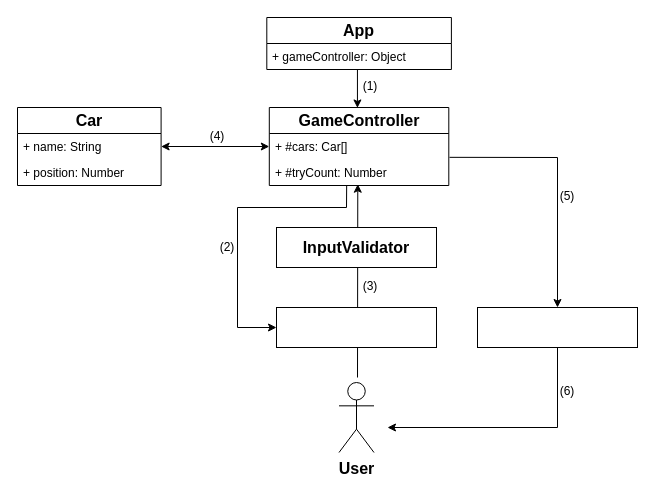
This 655x496 diagram has some shape labels left out. Each missing label, with the centre of its shape:
InputView: the point at 356,327
OutputView: the point at 557,327
